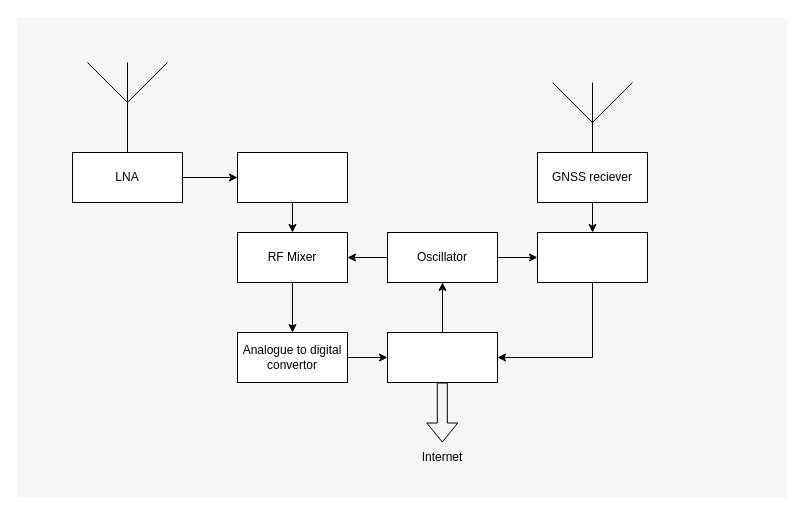
This 804x514 diagram has some shape labels left out. Here are the shapes that lost their labels. From the top down, the centre of each, then its label:
At pixel 292 177: "RF filter Amplifier".
At pixel 592 257: "Oscillator correctionss".
At pixel 442 357: "Station computer".
